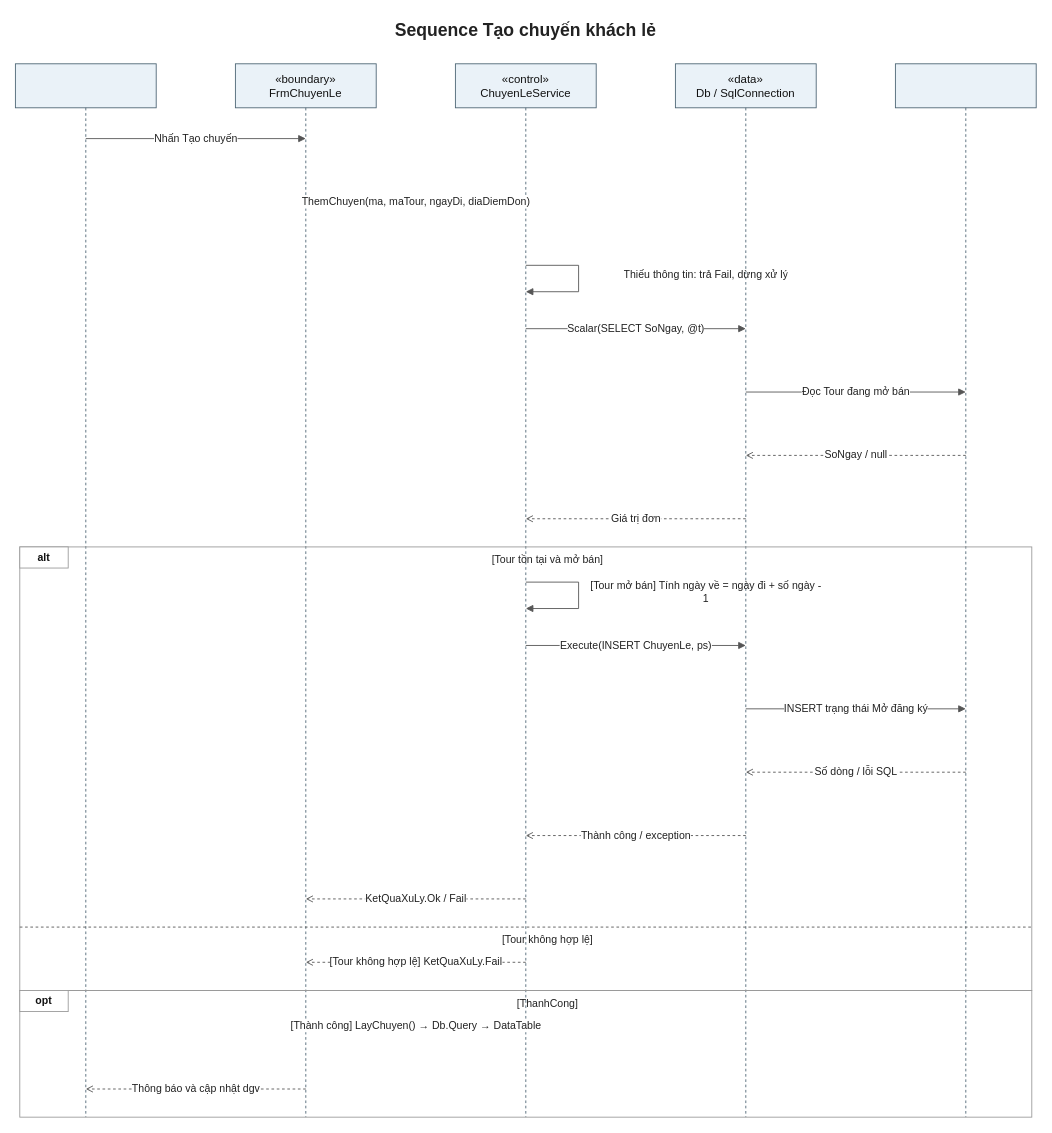
Image size: 1052x1133. Some labels were removed from this diagram. Each missing label, with the box of its shape:
NV điều hành: (15, 63, 156, 1117)
SQL Server: (895, 63, 1036, 1117)
